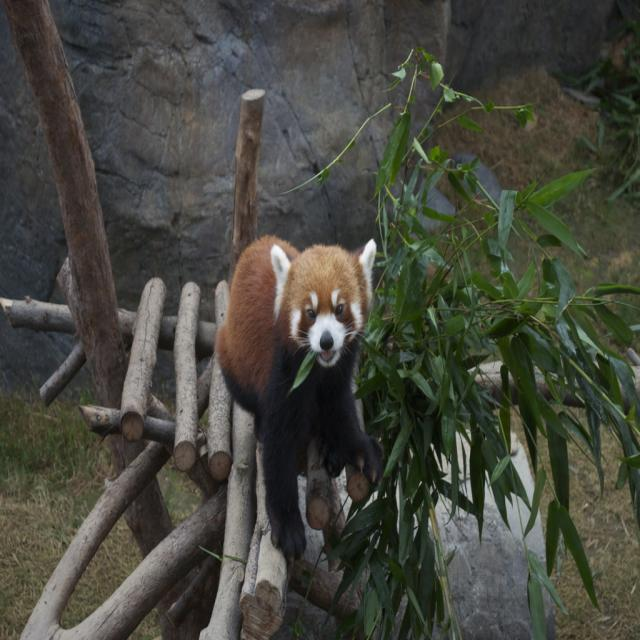Bear: (214, 233, 382, 562)
